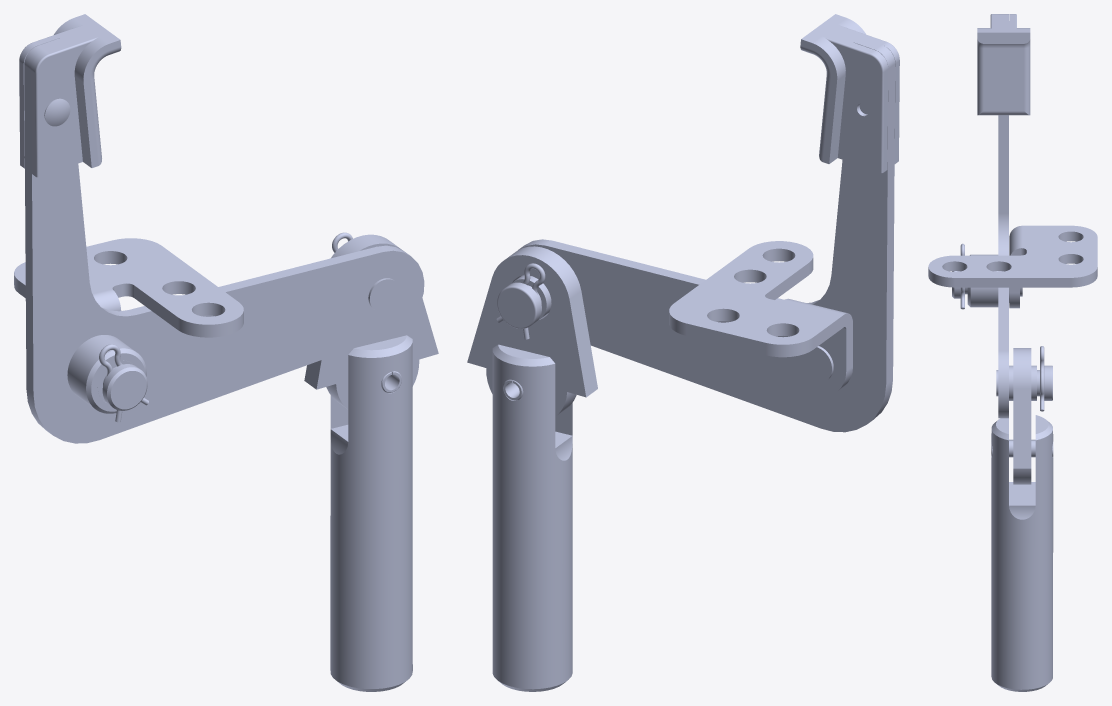
File: Kicker Arm Sllingshot Assembly (B-12665).fbx
The picture shows the model from 3 angles, left to right: view 1: azimuth 30°, elevation 25°; view 2: azimuth 150°, elevation 25°; view 3: azimuth 270°, elevation 25°; orthographic projection. The views are drawn at different scales.
Visible parts, largest first — view 1: Bellcrank, Plunger5, BellCrank Pad, Slingshot Pivot Bkt Mirror, Plunger Link, Bushing, Slingshot Pivot Stud, Pivot Pin 1; view 2: Bellcrank, Plunger5, Slingshot Pivot Bkt Mirror, BellCrank Pad, Plunger Link, Pivot Pin 1, Slingshot Pivot Stud; view 3: Plunger5, Slingshot Pivot Bkt Mirror, BellCrank Pad, Bellcrank, Plunger Link, Pivot Pin 1, Bushing, Hitch Pin.
Boxes of the visible parts, box(x1,y1,x2,y2) form: Bellcrank: box(24, 38, 424, 443); Plunger5: box(330, 335, 412, 691); BellCrank Pad: box(19, 14, 121, 177); Slingshot Pivot Bkt Mirror: box(14, 238, 243, 337); Plunger Link: box(304, 234, 438, 409); Bushing: box(67, 335, 146, 413); Slingshot Pivot Stud: box(97, 360, 147, 410); Pivot Pin 1: box(368, 278, 400, 311); Bellcrank: box(518, 37, 895, 432); Plunger5: box(492, 344, 572, 691); Slingshot Pivot Bkt Mirror: box(669, 241, 852, 396); BellCrank Pad: box(800, 14, 899, 172); Plunger Link: box(467, 246, 597, 416); Pivot Pin 1: box(497, 275, 551, 328); Slingshot Pivot Stud: box(797, 346, 833, 383); Plunger5: box(991, 415, 1053, 691); Slingshot Pivot Bkt Mirror: box(928, 225, 1097, 308); BellCrank Pad: box(977, 14, 1030, 115); Bellcrank: box(998, 14, 1008, 418); Plunger Link: box(1013, 348, 1031, 484); Pivot Pin 1: box(996, 365, 1052, 400); Bushing: box(967, 254, 1009, 307); Hitch Pin: box(1040, 346, 1044, 411).
Size of the model in its own units: 6.5 by 10.82 by 3.04.
